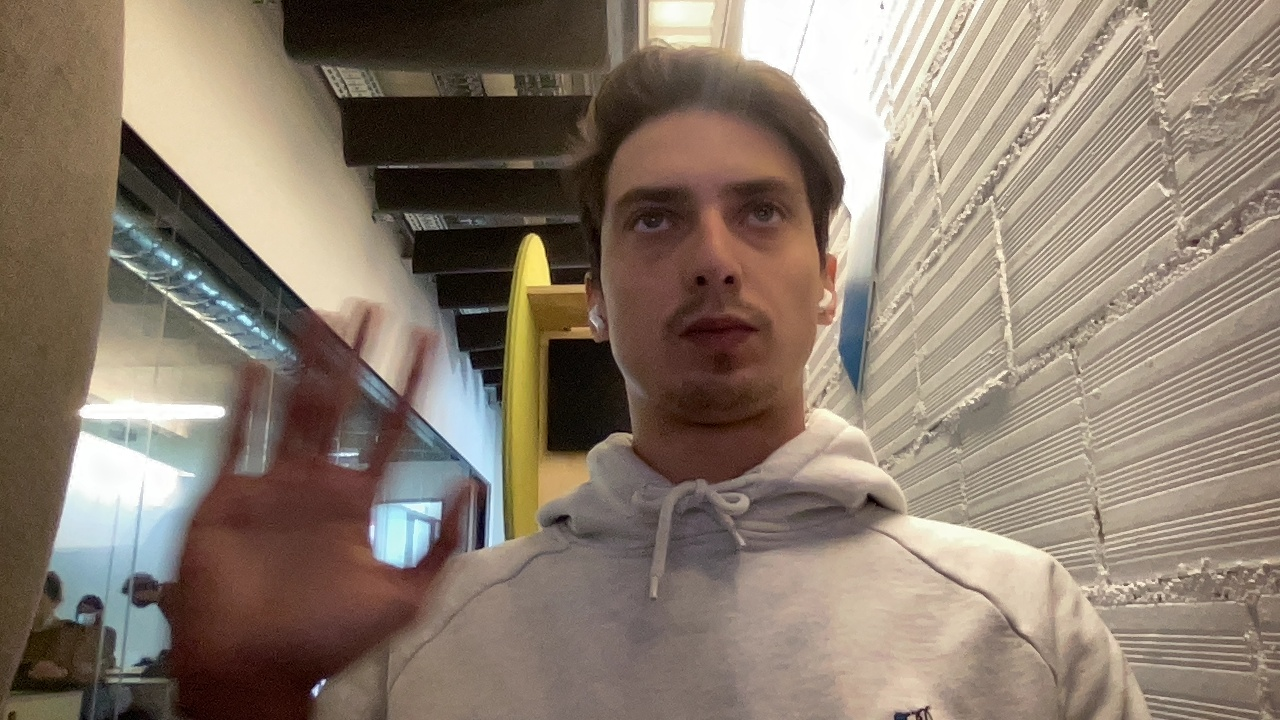Hello: (147, 275, 495, 678)
